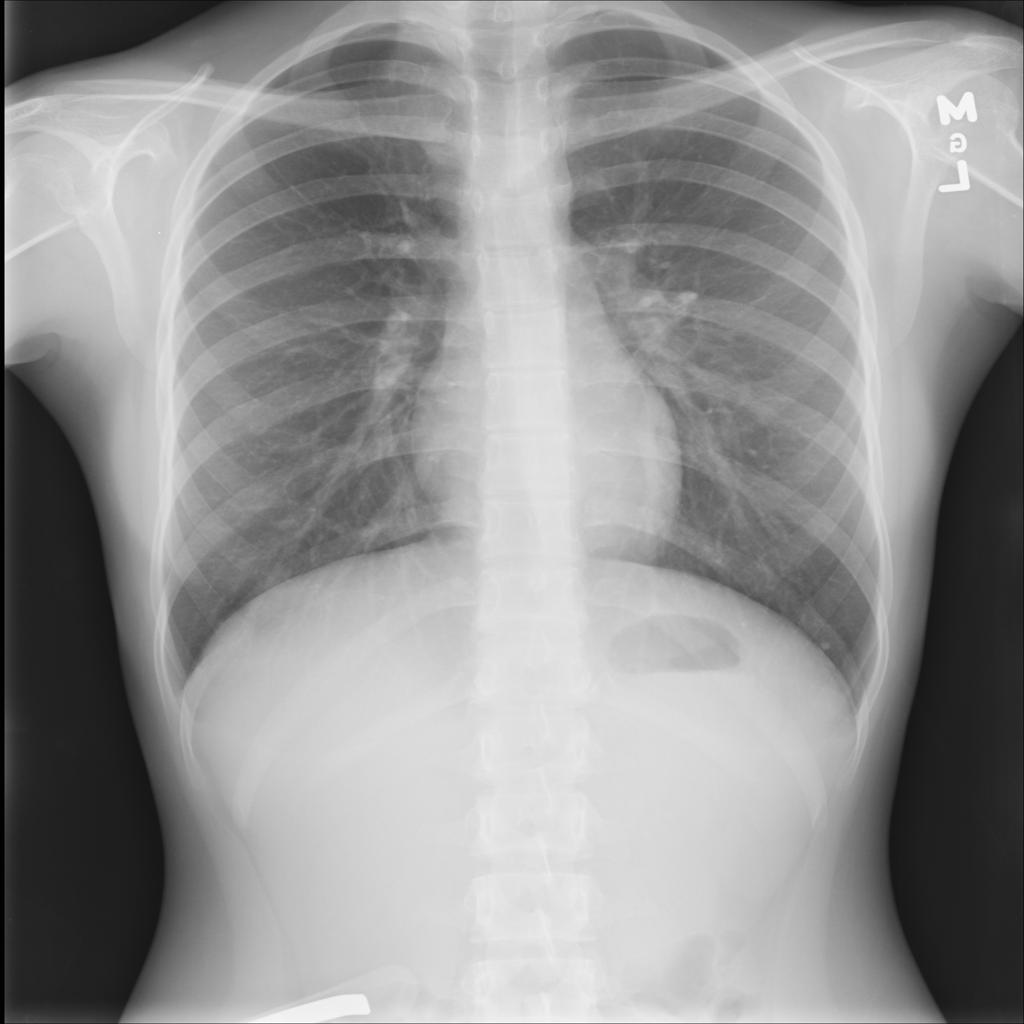nodule: (810, 632, 842, 660)
